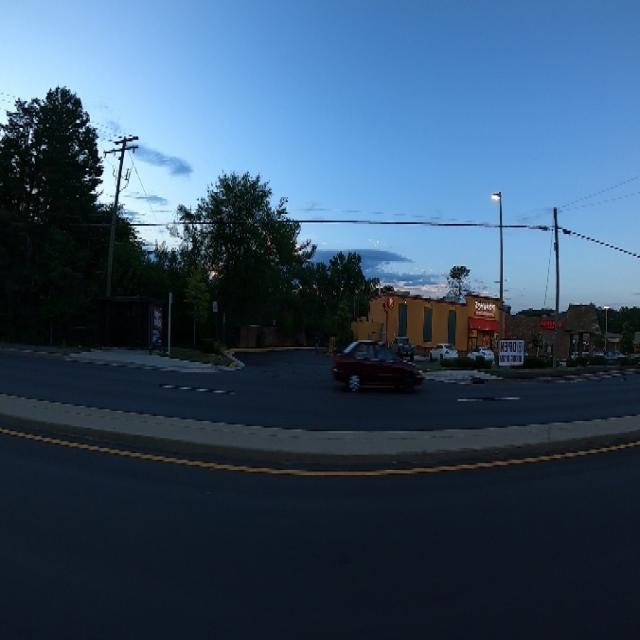cars: (334, 333, 428, 404), (426, 337, 461, 365), (467, 339, 498, 366), (387, 333, 414, 364)
